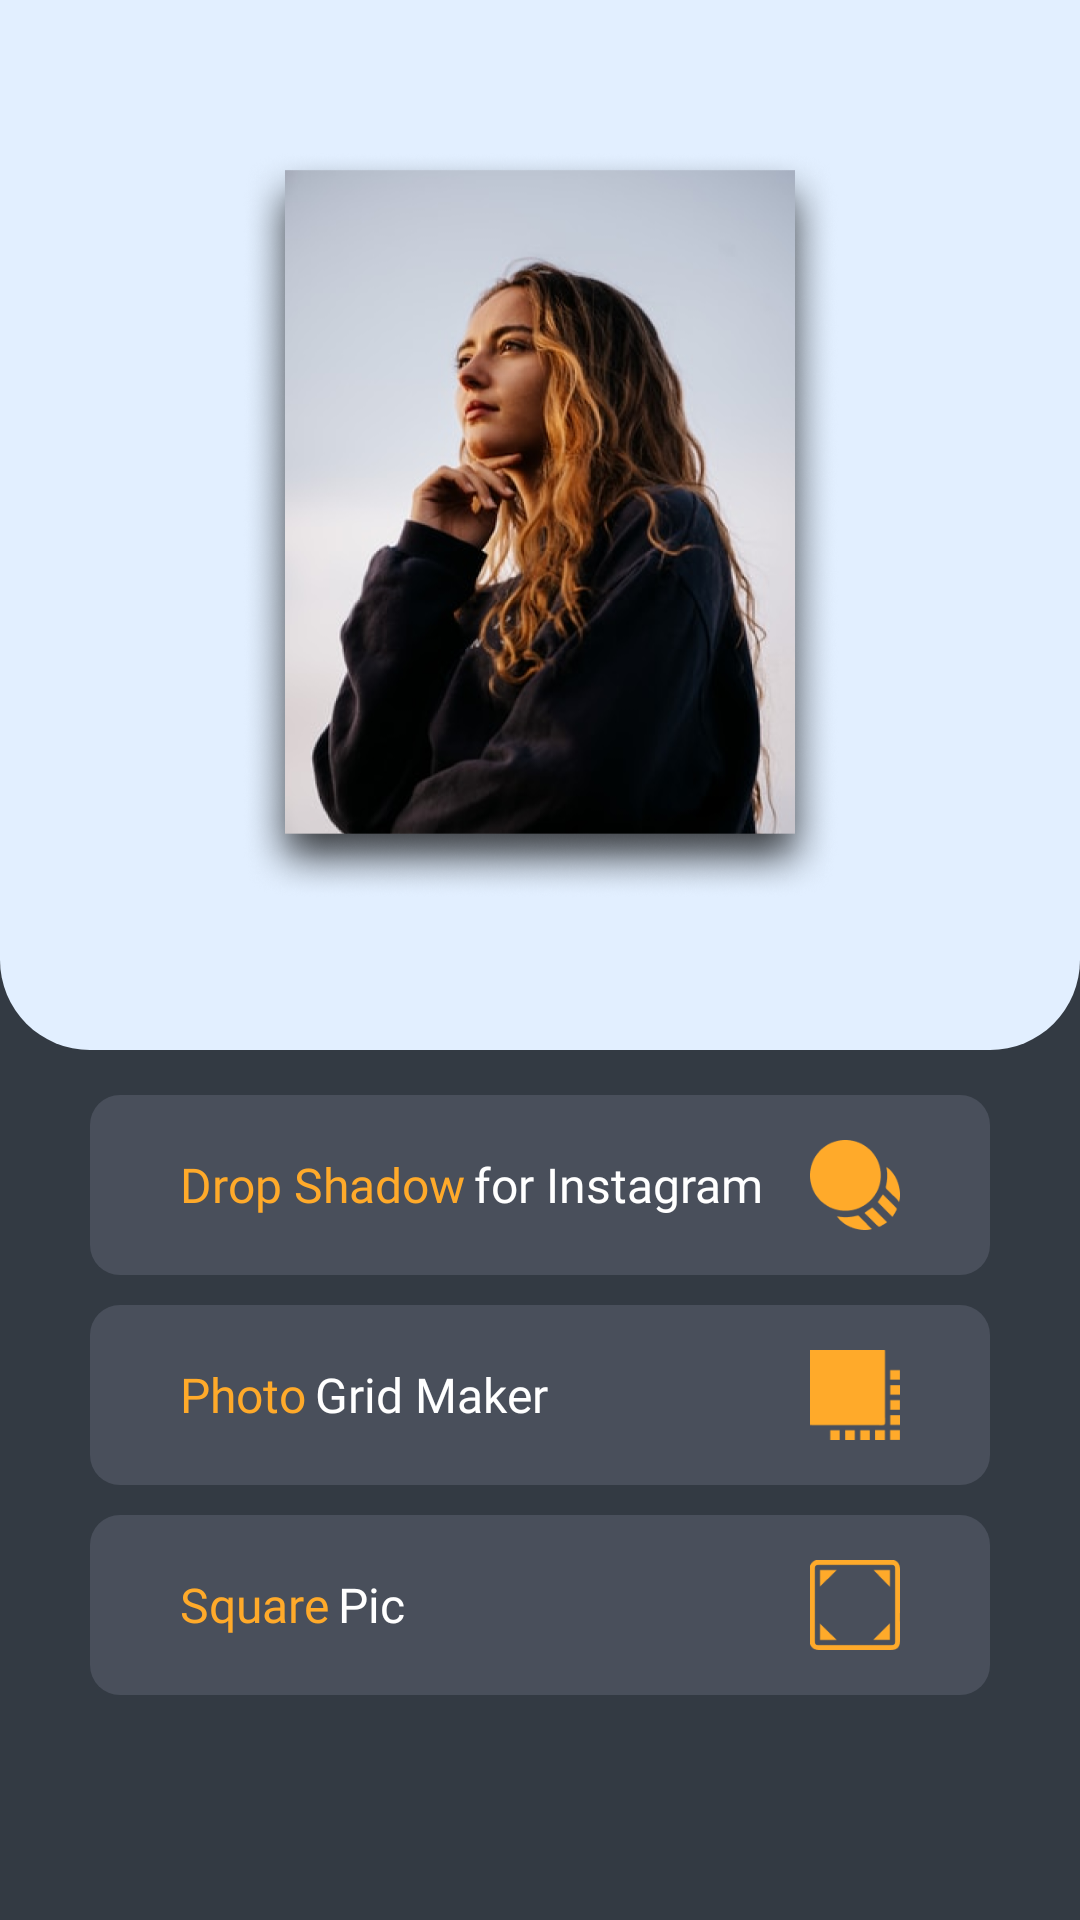

Point at icon controls on the screen. Image size 1080×1920, points as (x,y).
photo grid: (855,1395)
square pic: (855,1605)
